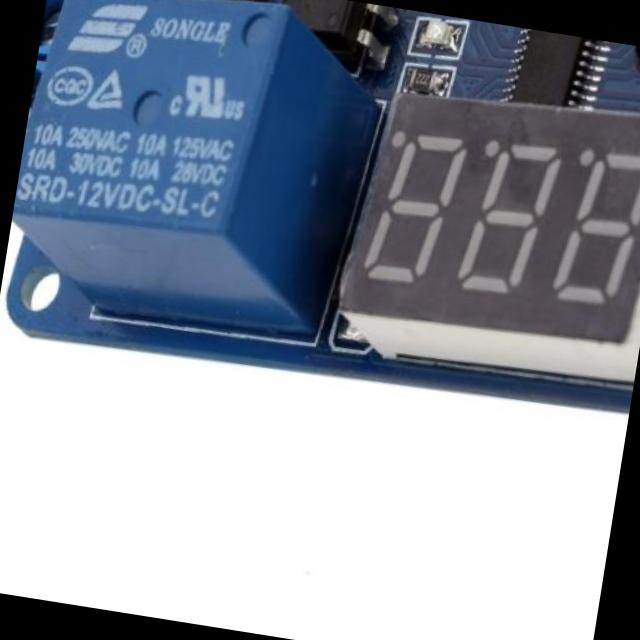IC: (502, 27, 608, 116), (285, 0, 405, 71)
LED: (413, 18, 466, 59)
resistor: (396, 58, 448, 96)
